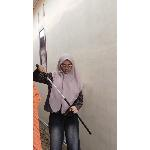Pedang: (36, 65, 76, 103)
